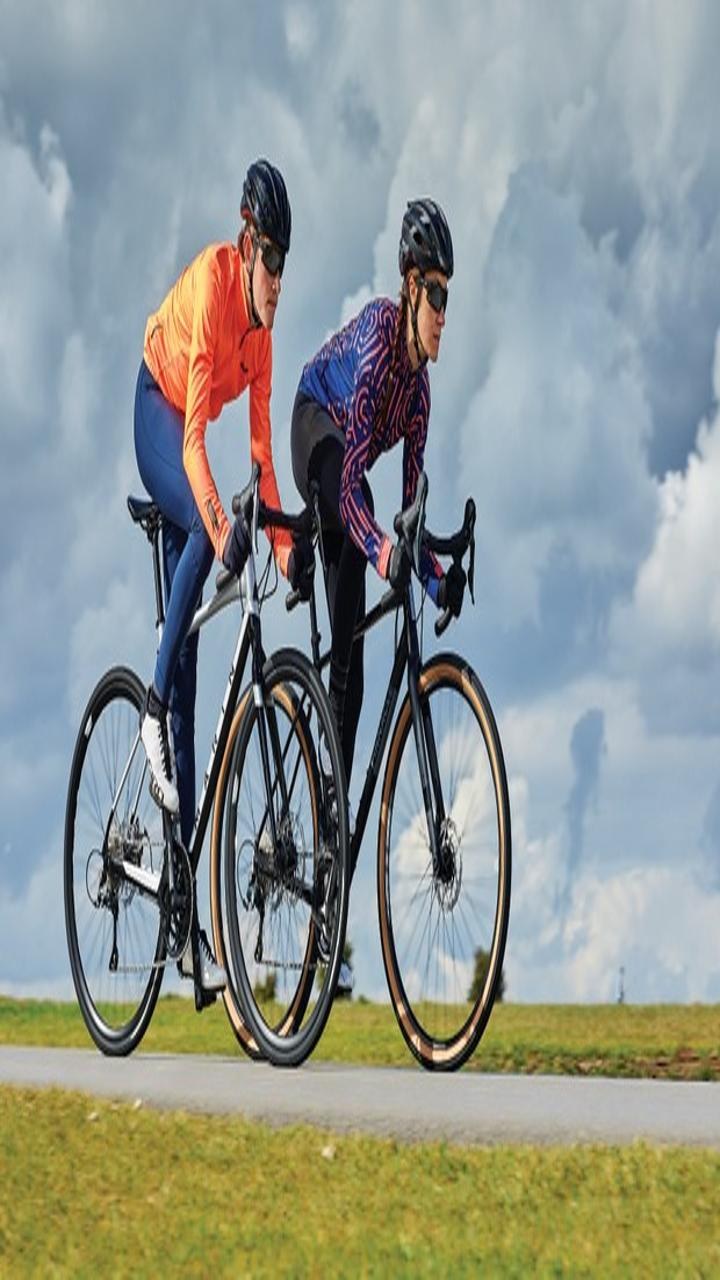bicycle: (32, 473, 344, 1077), (219, 484, 531, 1088)
cyclist: (112, 113, 302, 817), (292, 163, 474, 859)
